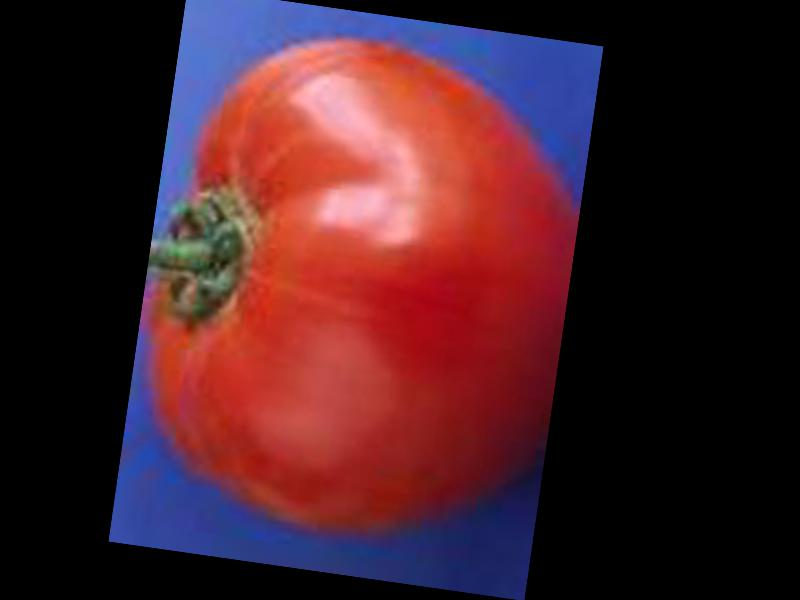Tomato: (117, 15, 596, 562)
